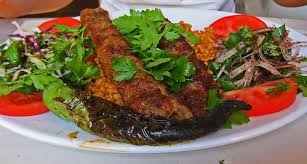kebap: (81, 8, 213, 119)
